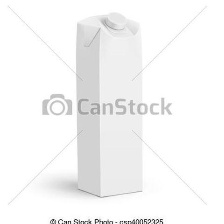carton: (68, 7, 147, 198)
